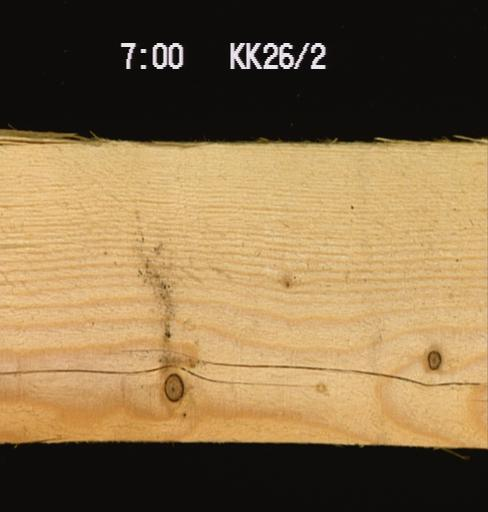dry_knot: (161, 370, 184, 402), (424, 347, 442, 371)
small_knot: (273, 269, 302, 297)
split: (0, 357, 315, 394), (204, 357, 482, 390)
